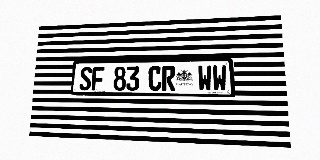3: (126, 66, 139, 91)
8: (113, 66, 126, 91)
C: (148, 66, 162, 91)
F: (91, 67, 104, 91)
R: (162, 66, 175, 91)
S: (79, 67, 92, 90)
W: (212, 65, 227, 91), (198, 65, 212, 91)
